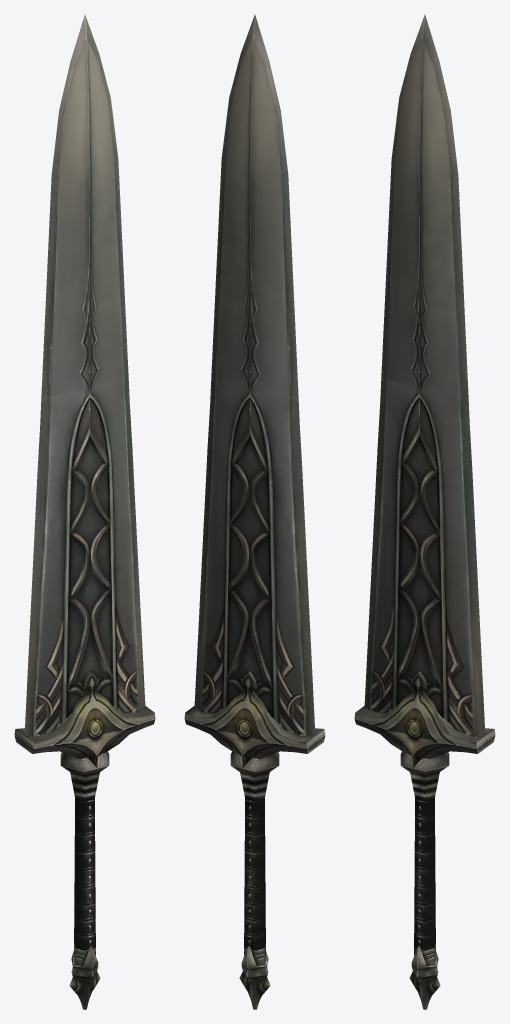
Rendered from Weapon_34.fbx.
3 renders of one model, left to right at view 1: azimuth 30°, elevation 25°; view 2: azimuth 150°, elevation 25°; view 3: azimuth 330°, elevation 25°, orthographic.
Visible parts, largest first — view 1: Weapon_34; view 2: Weapon_34; view 3: Weapon_34.
Part boxes in pixels (x1,y1,x2,y2): Weapon_34: (14,14,155,1009); Weapon_34: (184,14,325,1009); Weapon_34: (354,14,495,1009).
Bounding box in the file's own units: 21.19 × 7.59 × 165.
